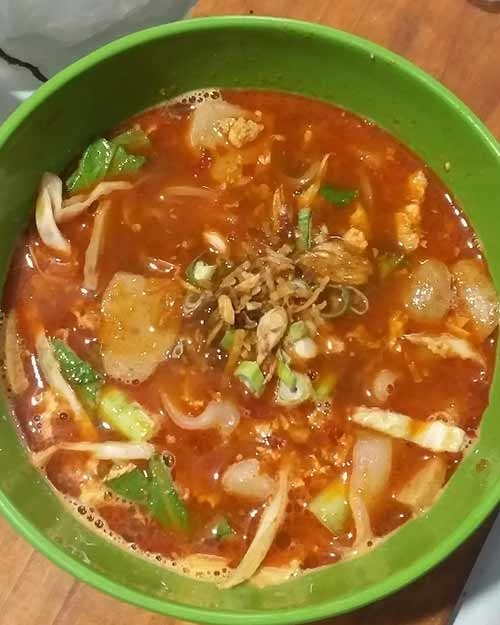seblak: (10, 88, 494, 585)
